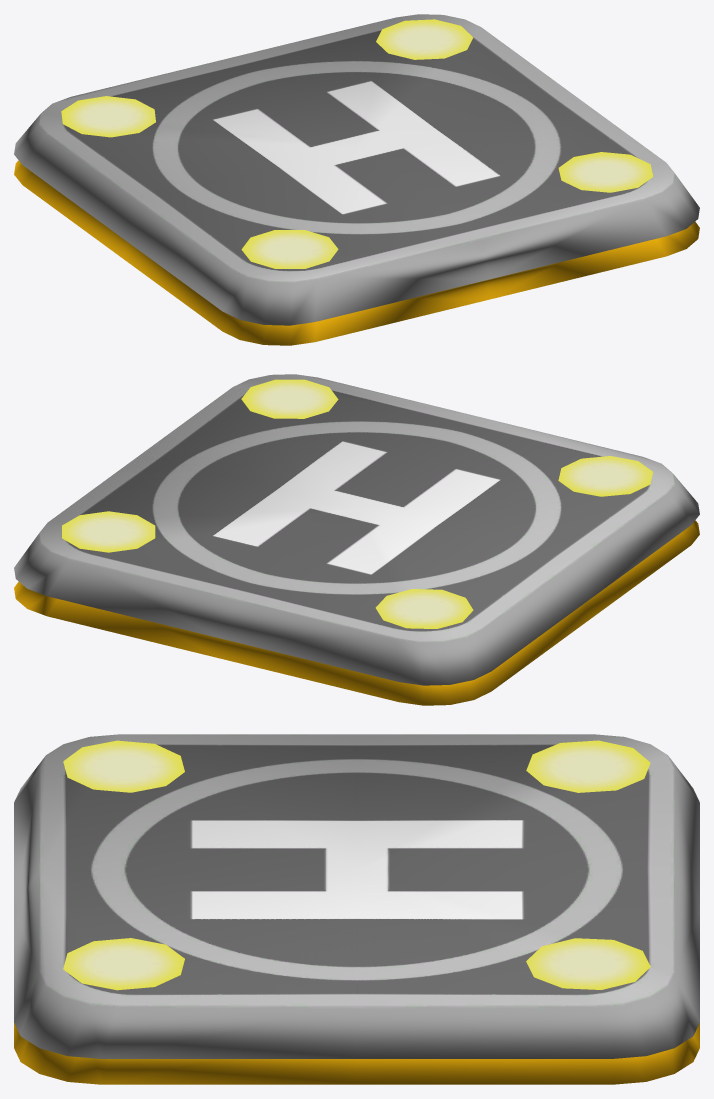
3 renders of one model, top to bottom at view 1: azimuth 30°, elevation 25°; view 2: azimuth 150°, elevation 25°; view 3: azimuth 270°, elevation 25°, orthographic. The views are drawn at different scales.
Parts seen in each view (by area): view 1: Helipad004, Helipad005, Helipad, Lights; view 2: Helipad004, Helipad005, Helipad, Lights; view 3: Helipad004, Helipad005, Lights, Helipad.
Part boxes in pixels (x1=…): Helipad004: x1=14, y1=14, x2=699, y2=325; Helipad005: x1=40, y1=14, x2=664, y2=267; Helipad: x1=14, y1=160, x2=699, y2=345; Lights: x1=61, y1=19, x2=653, y2=268; Helipad004: x1=14, y1=374, x2=699, y2=685; Helipad005: x1=40, y1=387, x2=665, y2=641; Helipad: x1=14, y1=520, x2=699, y2=705; Lights: x1=62, y1=379, x2=652, y2=628; Helipad004: x1=14, y1=734, x2=699, y2=1058; Helipad005: x1=40, y1=734, x2=673, y2=1005; Lights: x1=63, y1=740, x2=650, y2=990; Helipad: x1=14, y1=1023, x2=699, y2=1084.
Size of the model in its own units: 25.61 by 2.97 by 25.34.
